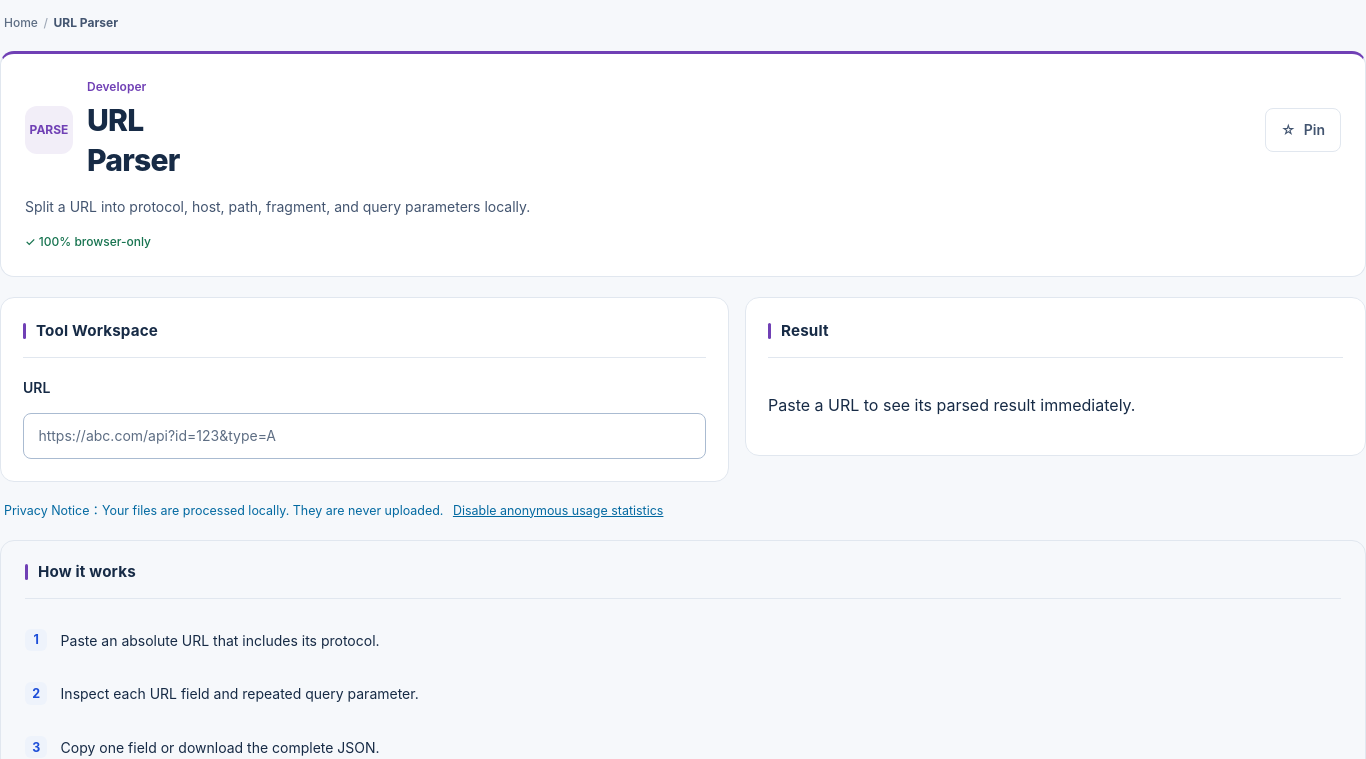
Test: UrlParserPage › copies one parsed field with an explicit accessible name
This screenshot has width=1366, height=759.
Type "https://abc.com/api?id=123" into the field labelled "URL" at point(364, 436), box x1=23 y1=413 x2=706 y2=459
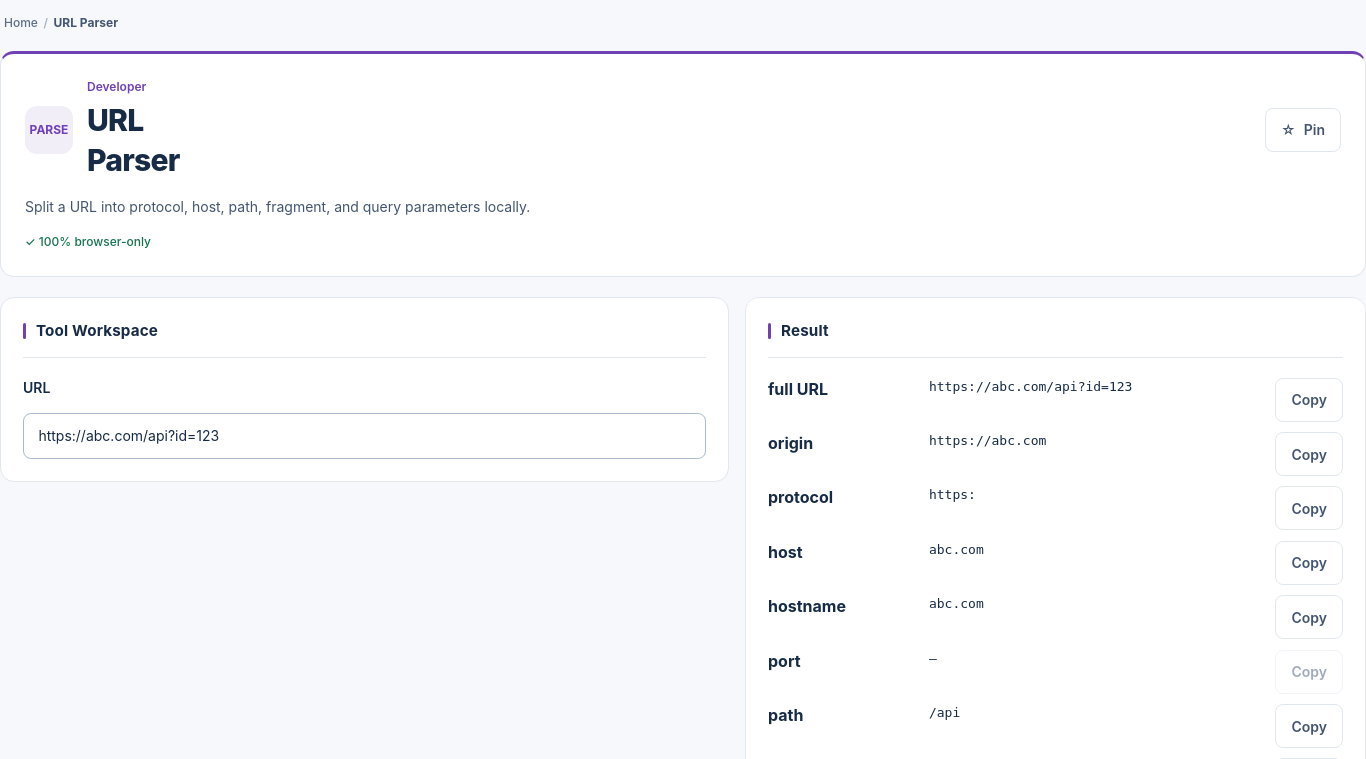
Click the button with aria-label "Copy host" at point(1309, 563), box x1=1275 y1=541 x2=1343 y2=585
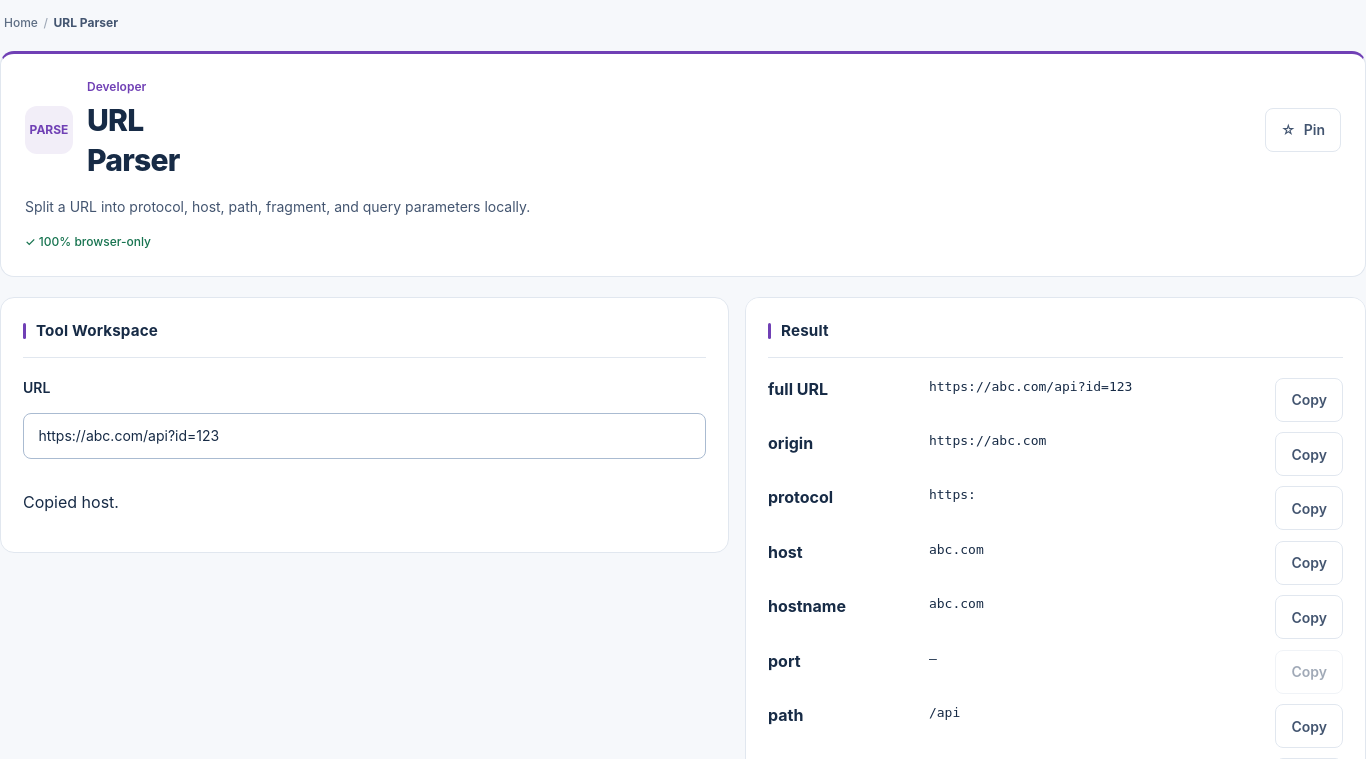
Expected: the message shows "Copied", x1=23 y1=492 x2=119 y2=512
